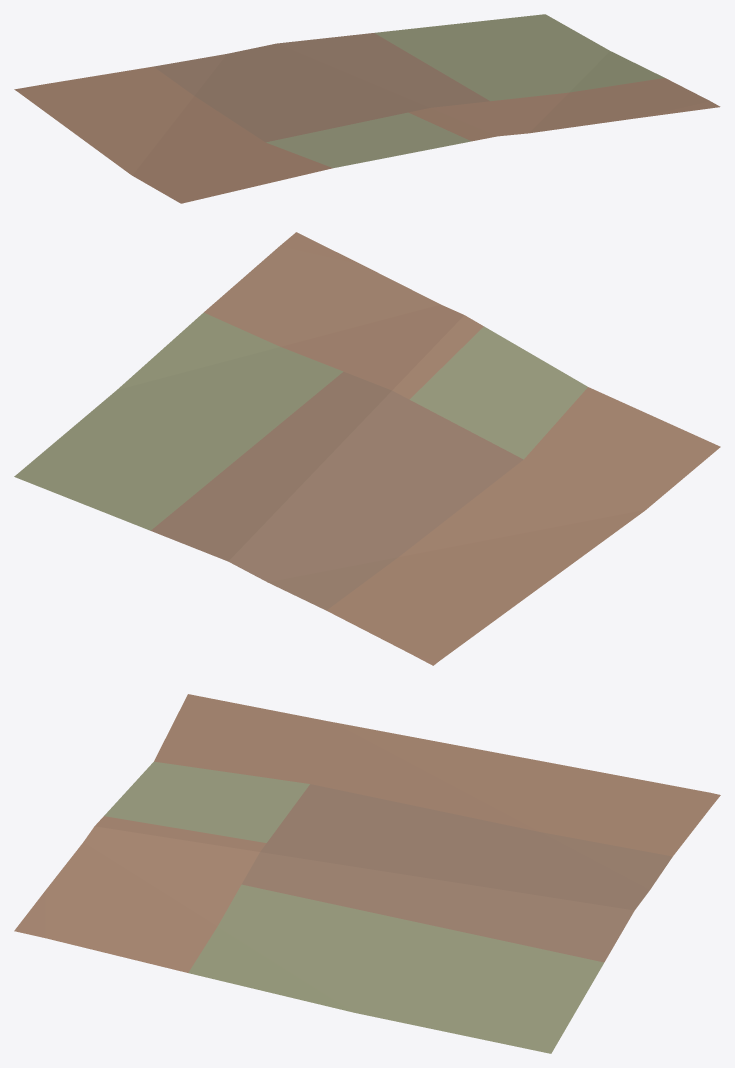
Rendered from farm_-35_-45_soil.glb.
3 views of the same model, one above another, from view 1: azimuth 30°, elevation 25°; view 2: azimuth 150°, elevation 25°; view 3: azimuth 270°, elevation 25° (orthographic). The views are drawn at different scales.
Parts seen in each view (by area): view 1: geometry_0; view 2: geometry_0; view 3: geometry_0.
Boxes of the visible parts, x1=… form: geometry_0: x1=14, y1=14, x2=720, y2=203; geometry_0: x1=14, y1=232, x2=720, y2=665; geometry_0: x1=14, y1=694, x2=720, y2=1053.
Bounding box in the file's own units: 87.06 × 14.98 × 85.07.
